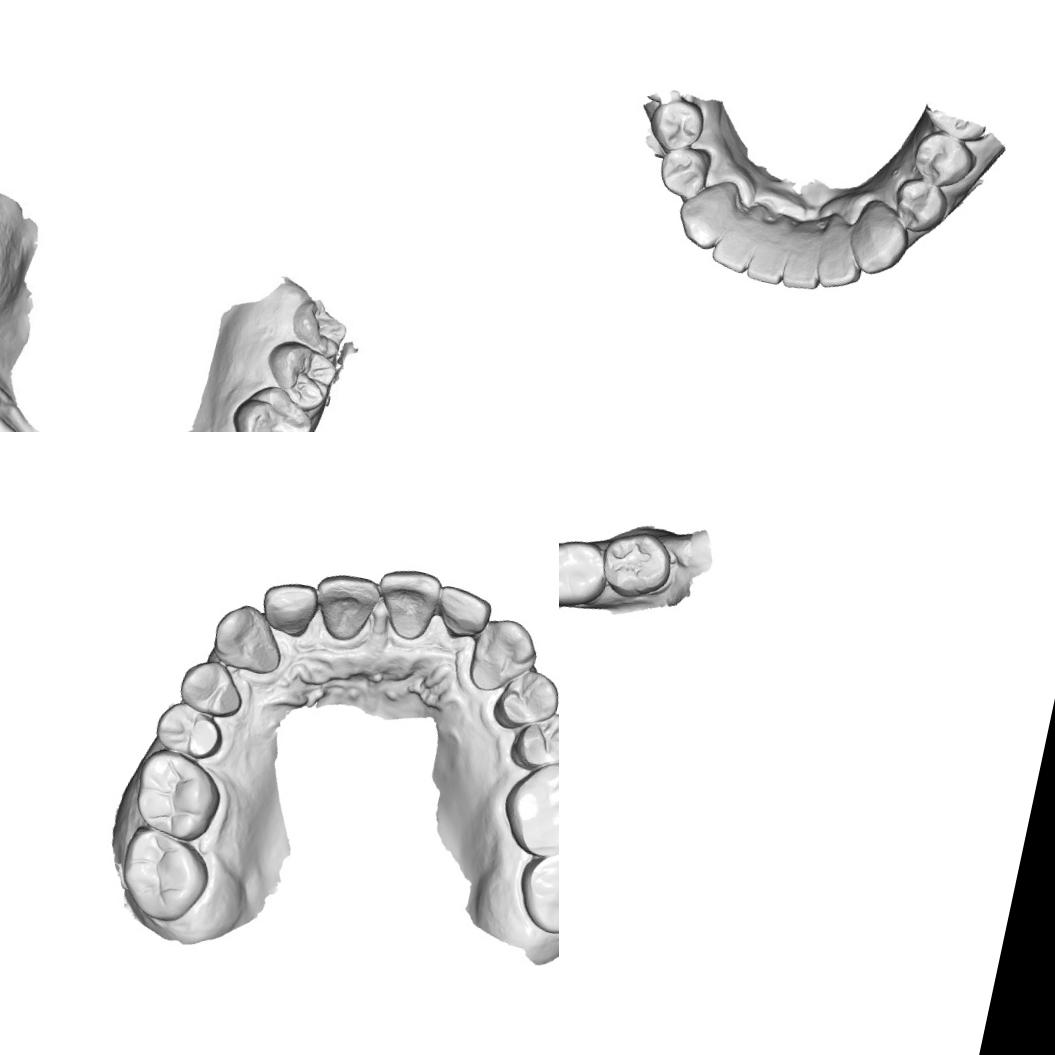canine: (202, 596, 294, 682), (463, 610, 545, 702), (843, 196, 915, 283), (669, 177, 736, 258)
incisor: (368, 560, 448, 647), (306, 565, 382, 648), (254, 575, 326, 643), (428, 581, 496, 647), (814, 218, 871, 294), (741, 229, 793, 289), (780, 232, 828, 295), (707, 217, 758, 276)
molar: (109, 820, 219, 932), (124, 744, 230, 848), (492, 748, 559, 867), (257, 336, 343, 414), (595, 525, 677, 606), (509, 832, 559, 947), (221, 379, 323, 432), (559, 532, 614, 615)
premolar: (147, 695, 229, 766), (488, 660, 559, 739), (173, 655, 250, 725), (906, 125, 982, 193), (885, 175, 952, 239), (505, 703, 559, 778), (645, 94, 710, 156), (653, 142, 714, 202)
